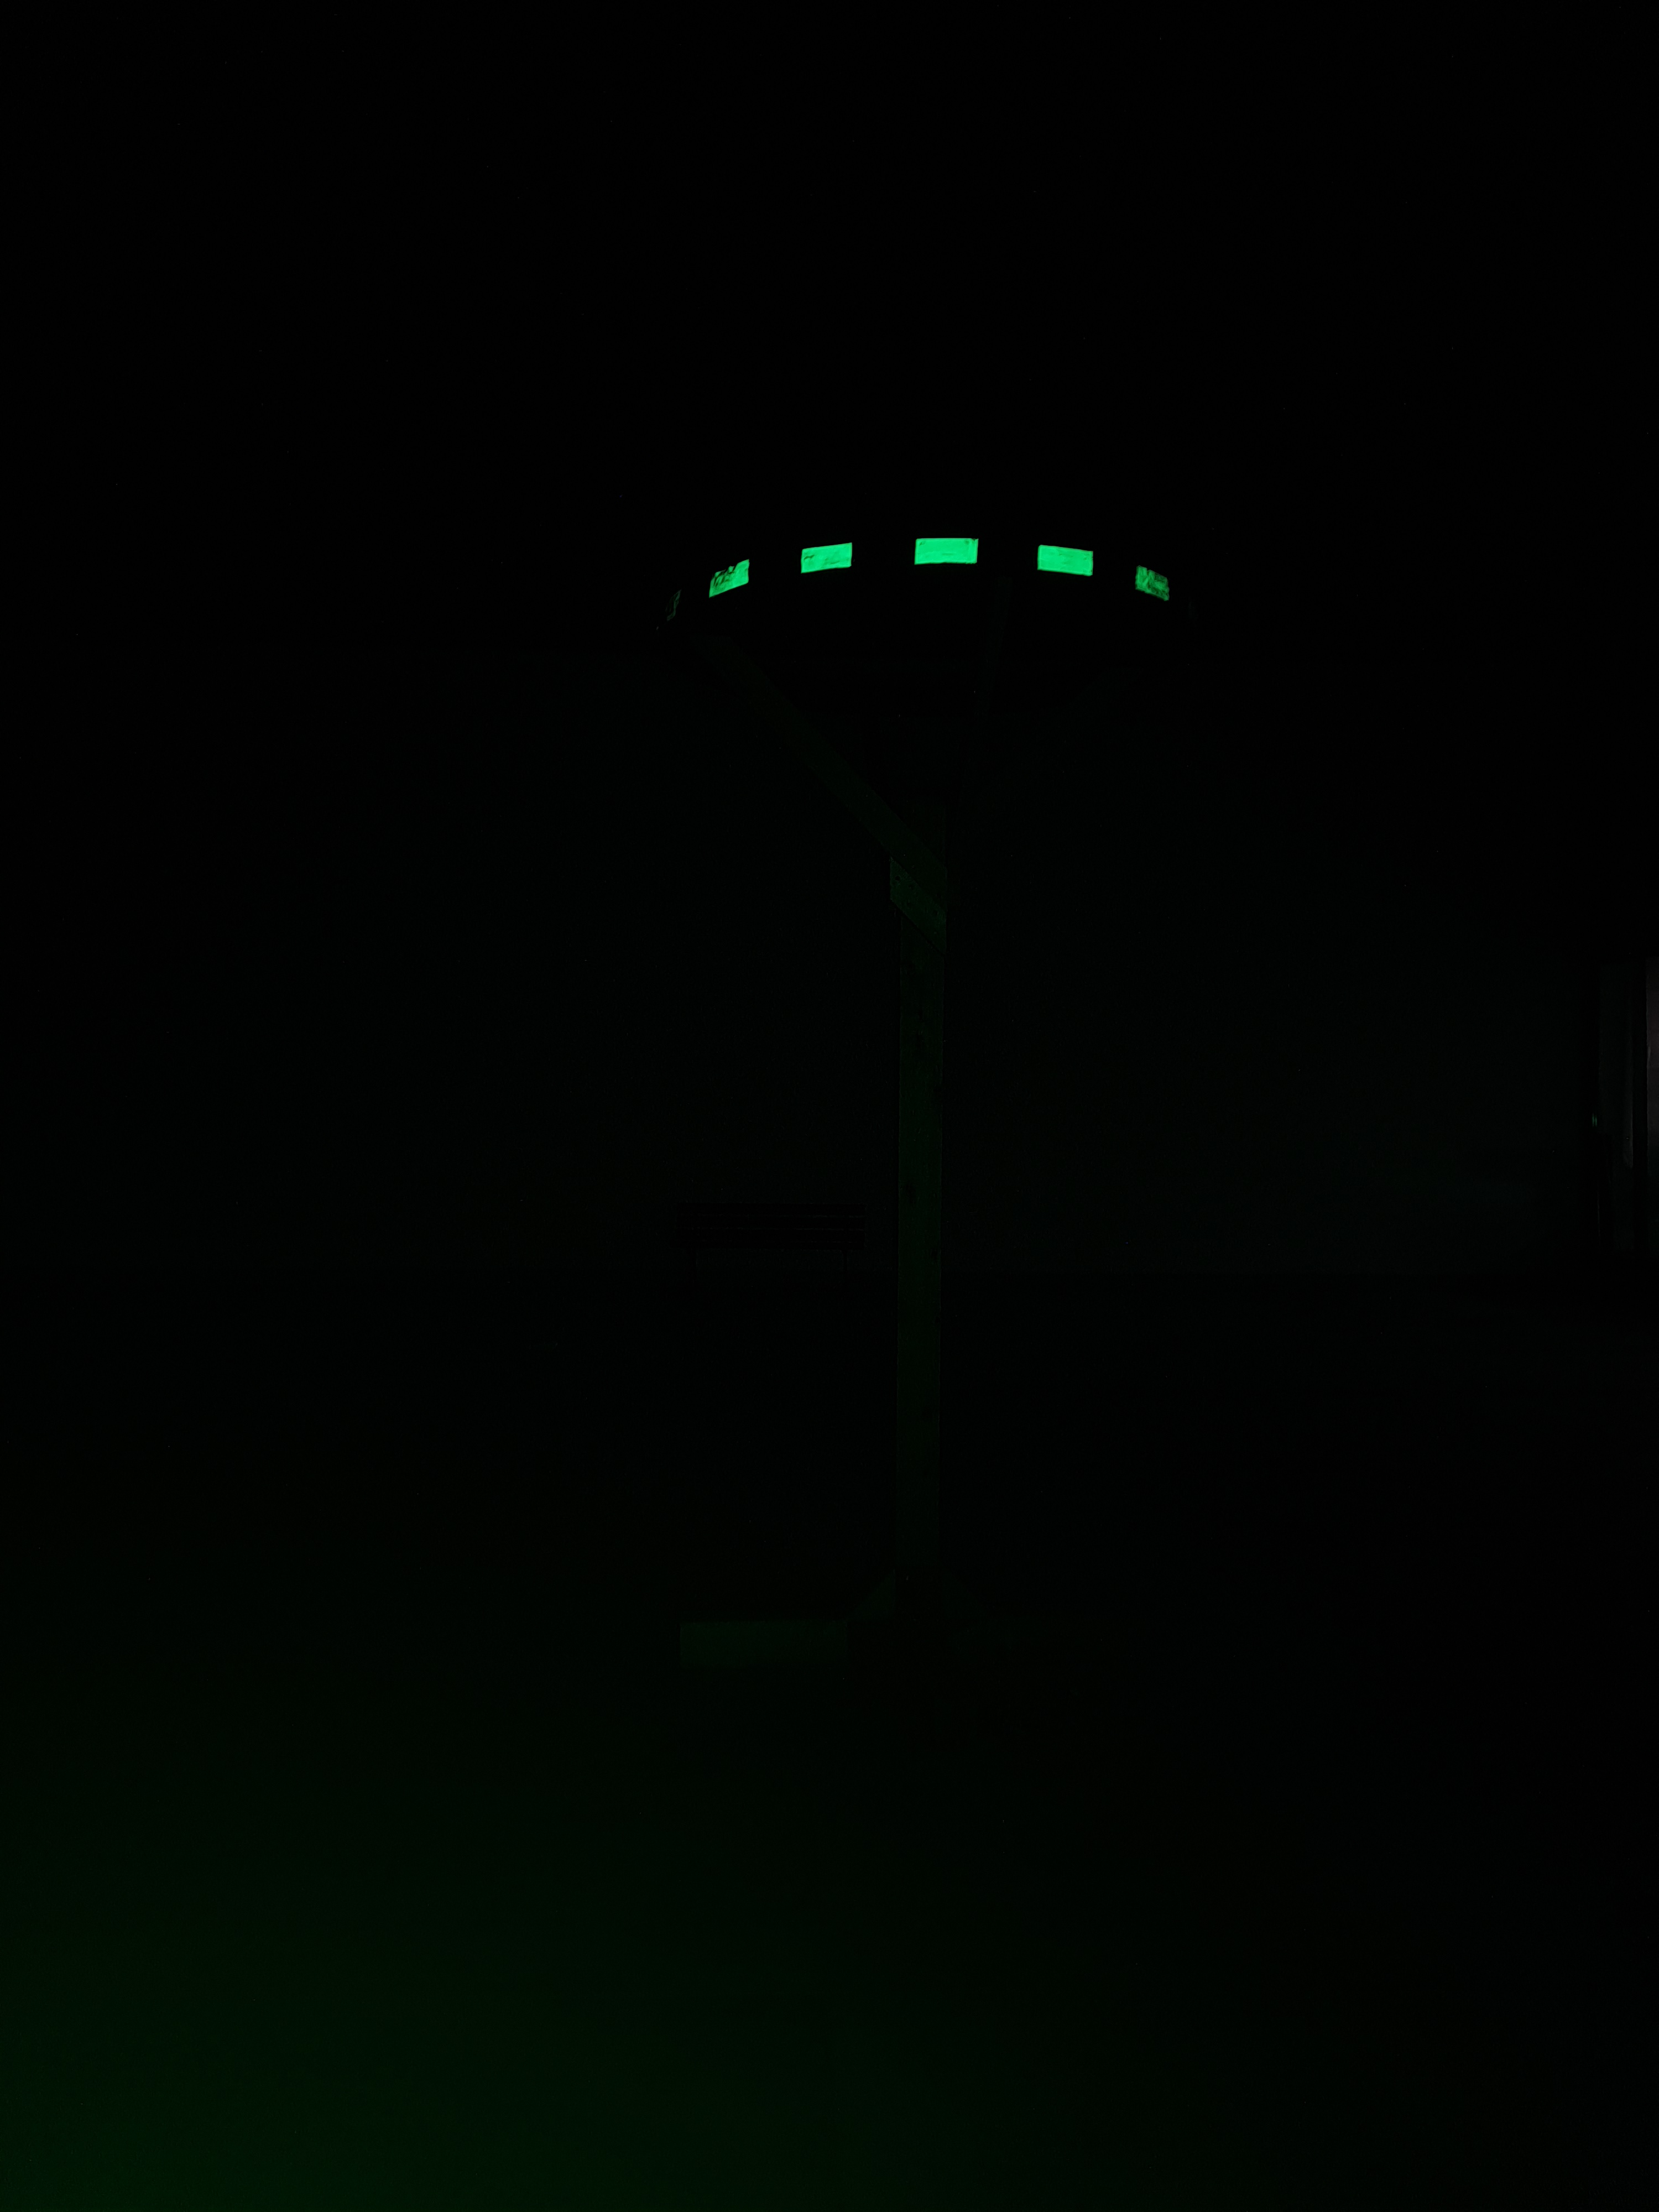hoop: (709, 531, 1178, 610)
